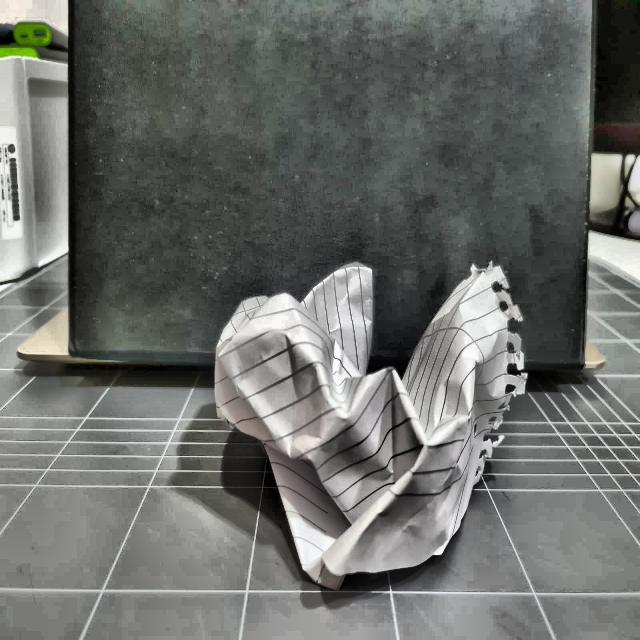Paper: (213, 272, 528, 565)
